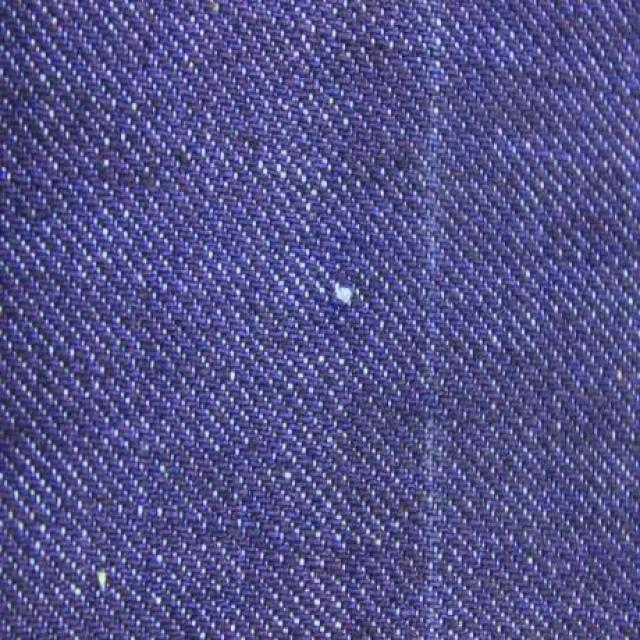stains: (234, 218, 438, 374)
